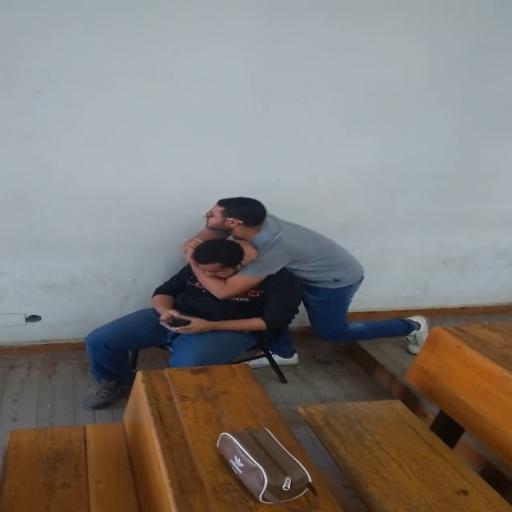violencia: (64, 170, 451, 430)
